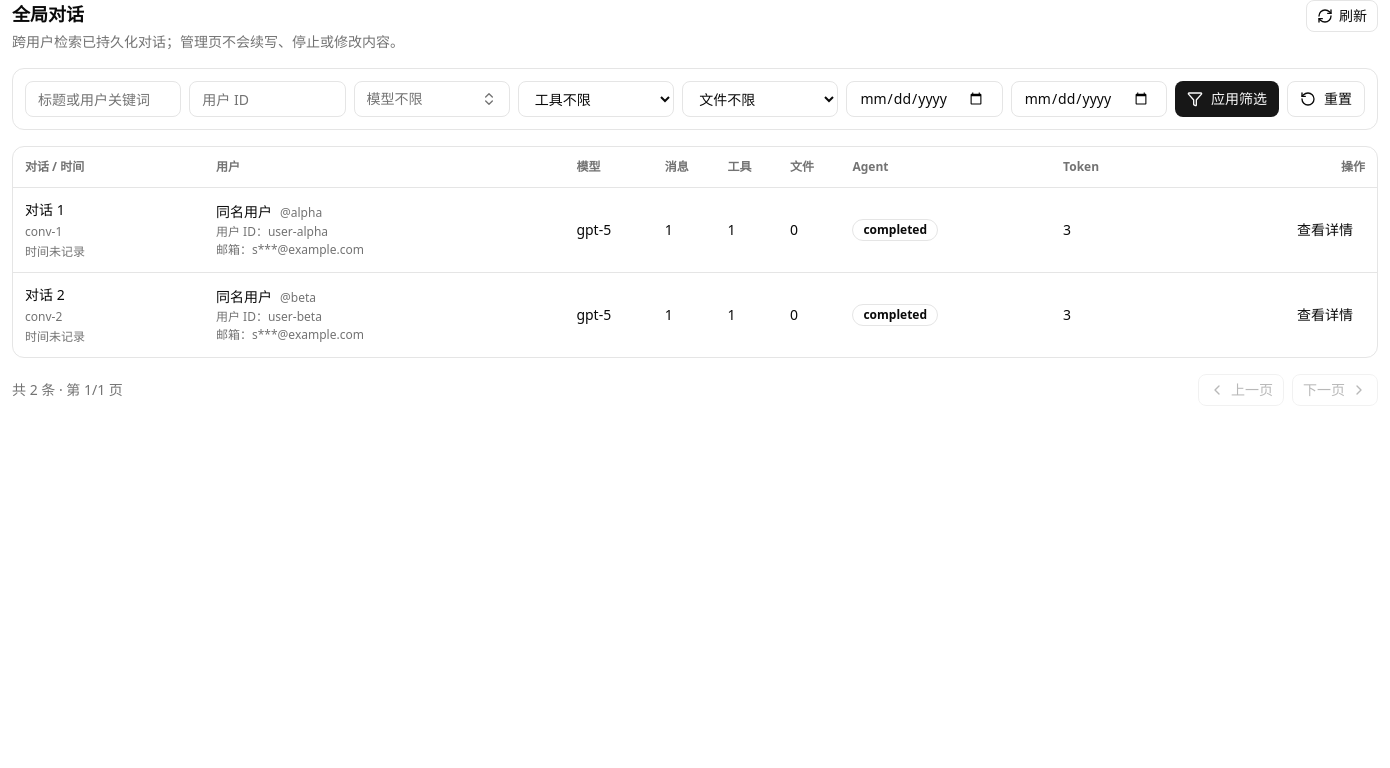
Test: AdminConversationsPanel › 列表与详情在身份碰撞时仍展示昵称、username 和 user_id
The image size is (1390, 768).
Check: the text "对话 1" is shown, box [25,200,65,219]
Check: the text "@alpha" is shown, box [280,205,322,221]
Click the button with aria-label "查看对话详情 conv-1": (1325, 230) [1285,214,1365,246]
(page scrolled)
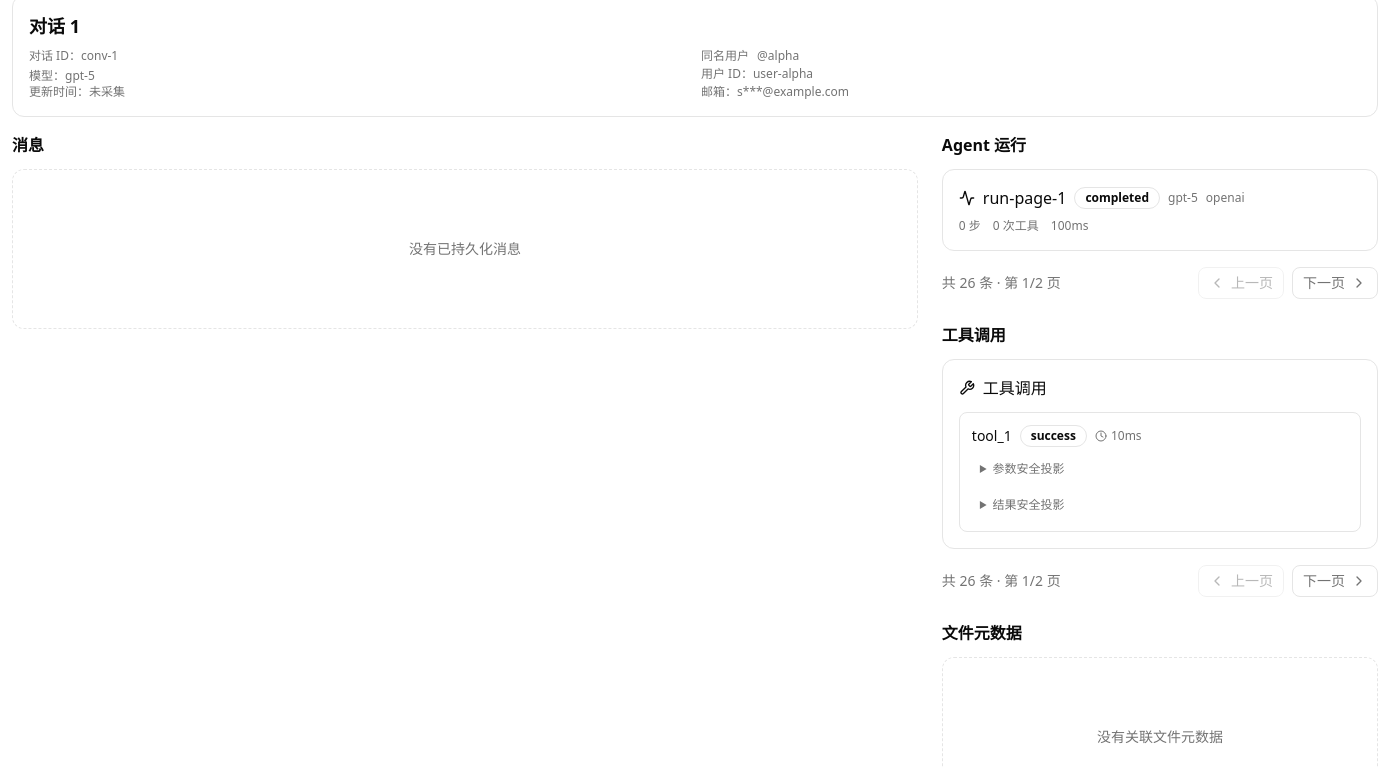
Check: the element named "对话详情 conv-1" shows "同名用户", box [701,47,749,64]
Check: the element named "对话详情 conv-1" shows "user-alpha", box [753,65,813,82]
Check: the element named "对话详情 conv-1" shows "s***@example.com", box [737,83,849,100]
